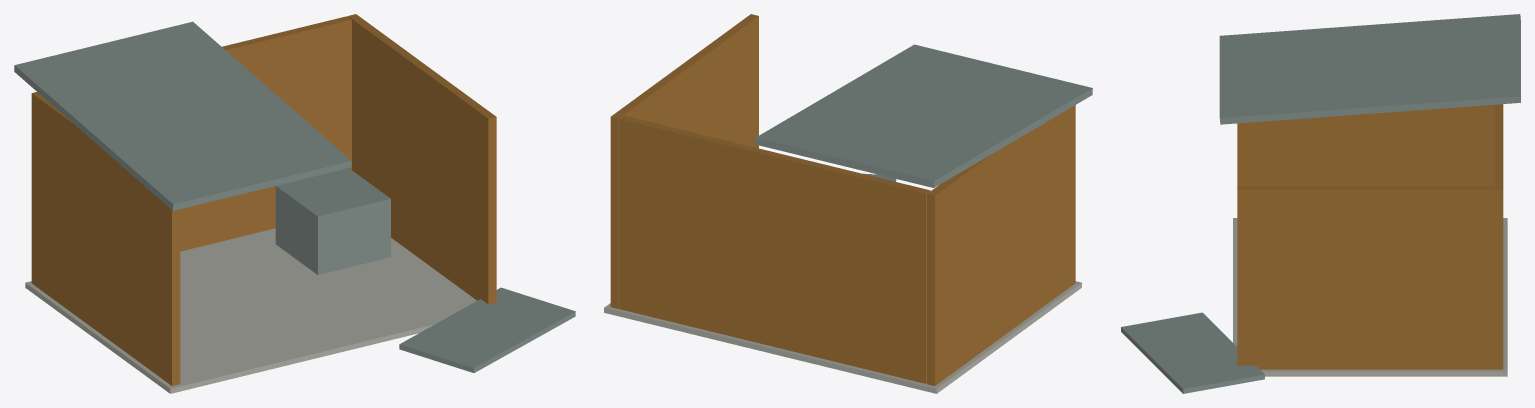
The model's file is SM_CasetaAperos_v4_Abandonada_LOD1.fbx.
3 views of the same model, side by side, from view 1: azimuth 30°, elevation 25°; view 2: azimuth 150°, elevation 25°; view 3: azimuth 270°, elevation 25° (orthographic). The views are drawn at different scales.
Visible parts, largest first — view 1: SM_huerta_nules_v24_LOD1; view 2: SM_huerta_nules_v24_LOD1; view 3: SM_huerta_nules_v24_LOD1.
Part boxes in pixels (x1,y1,x2,y2): SM_huerta_nules_v24_LOD1: (14,14,575,393); SM_huerta_nules_v24_LOD1: (604,14,1092,393); SM_huerta_nules_v24_LOD1: (1121,14,1520,393).
Size of the model in its own units: 4.72 by 2.58 by 4.51.
